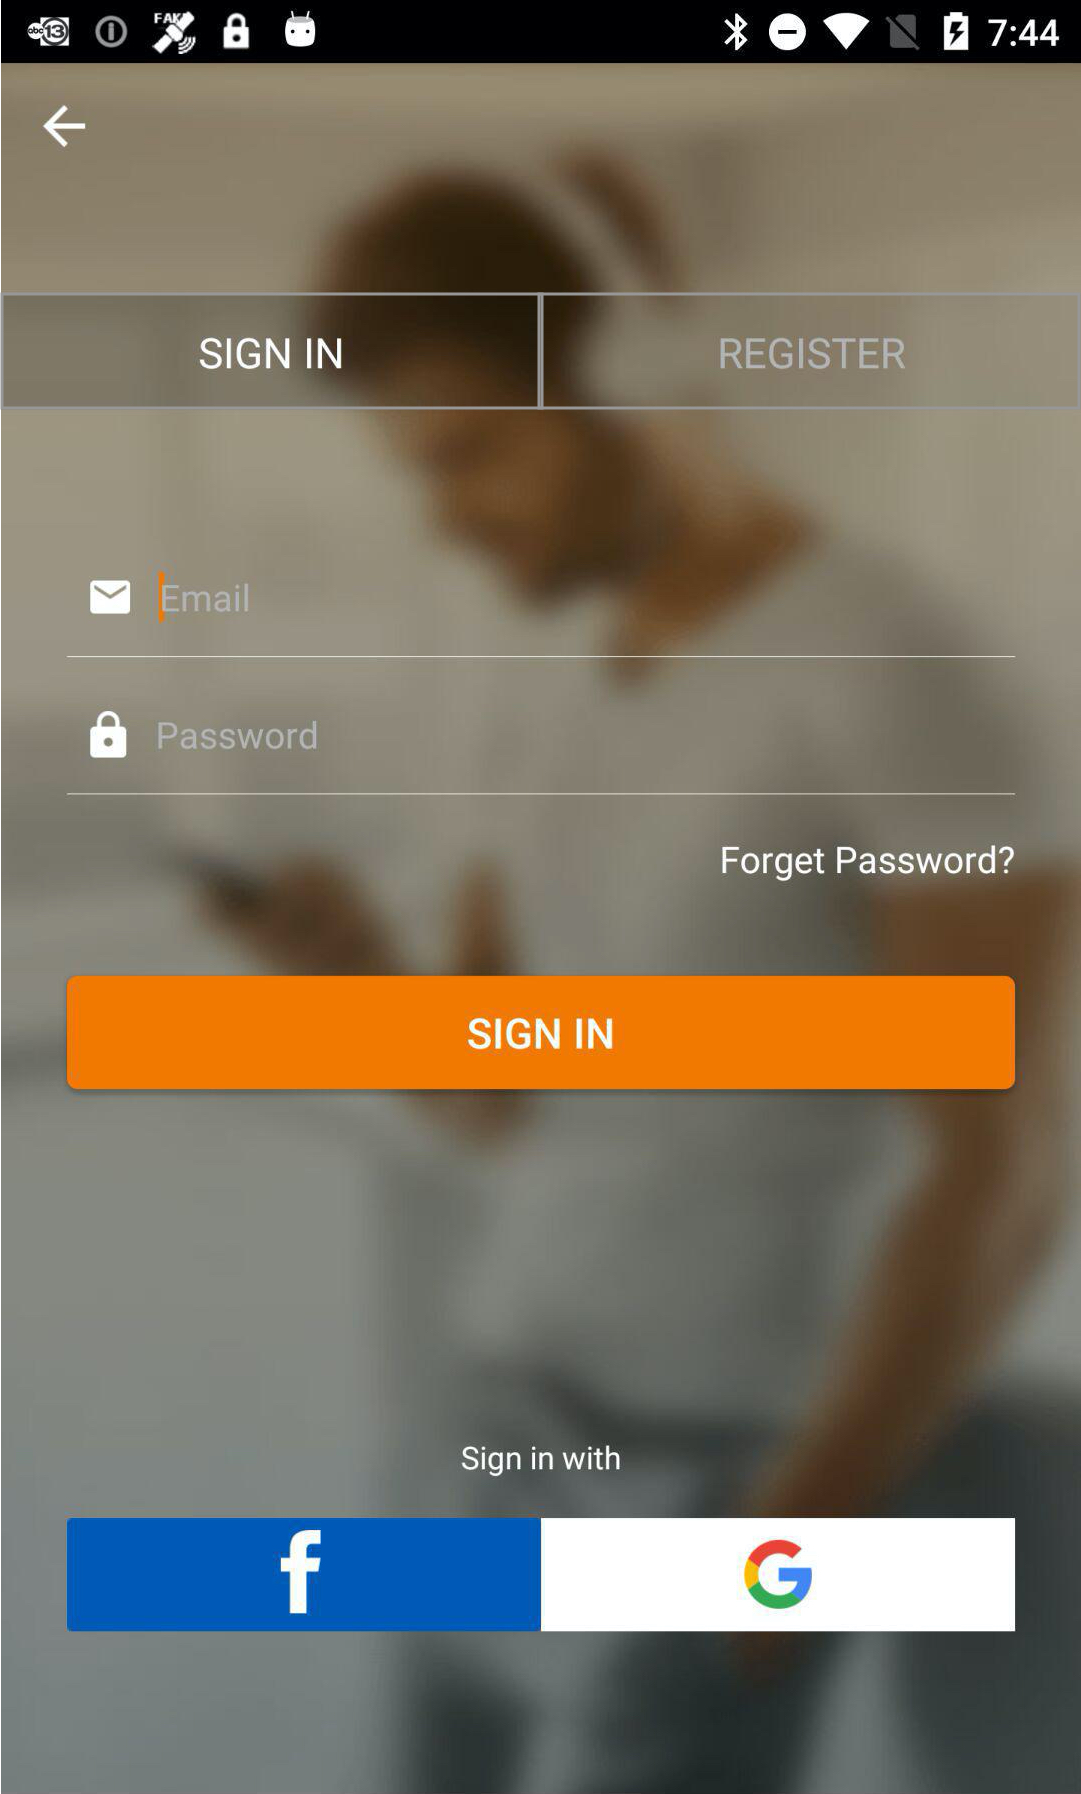BackgroundImage: (1, 64, 1081, 1794)
EditText: (65, 710, 1016, 797), (67, 572, 1016, 659)
Icon: (41, 105, 86, 149), (88, 711, 127, 760), (88, 580, 131, 616)
Text: (721, 844, 1014, 883), (461, 1444, 622, 1477), (156, 720, 318, 752), (161, 583, 248, 615)
TextButton: (67, 975, 1016, 1090), (1, 292, 540, 411), (542, 293, 1081, 411), (540, 1518, 1016, 1633), (67, 1518, 540, 1633)
UpperTaskBar: (1, 1, 1081, 64)
